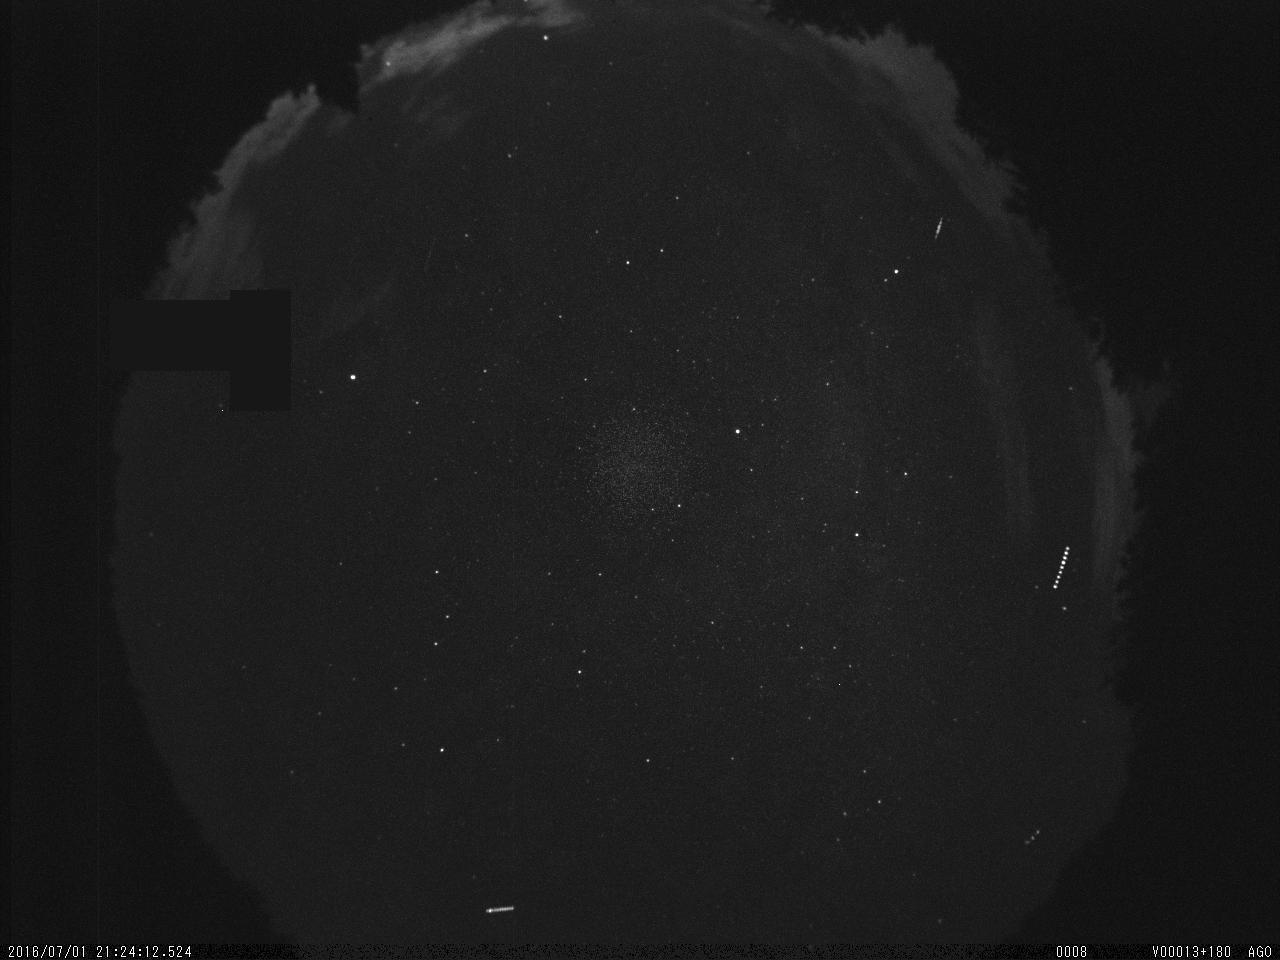meteor: (929, 212, 949, 247)
satelite: (1042, 532, 1080, 599), (481, 895, 519, 923)
